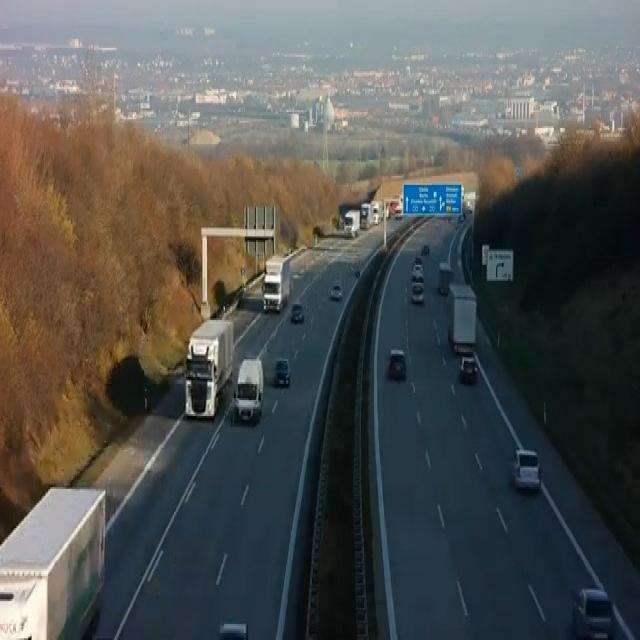car: (571, 587, 613, 638), (512, 448, 542, 491), (218, 620, 248, 638), (459, 354, 478, 382), (389, 348, 406, 378), (274, 357, 290, 386), (290, 302, 304, 322), (411, 283, 424, 302), (329, 281, 342, 299), (421, 244, 429, 254)
truck: (0, 486, 106, 638), (183, 316, 233, 419), (447, 282, 477, 354), (234, 358, 263, 422), (261, 254, 290, 313), (437, 262, 453, 294), (344, 208, 360, 236)
